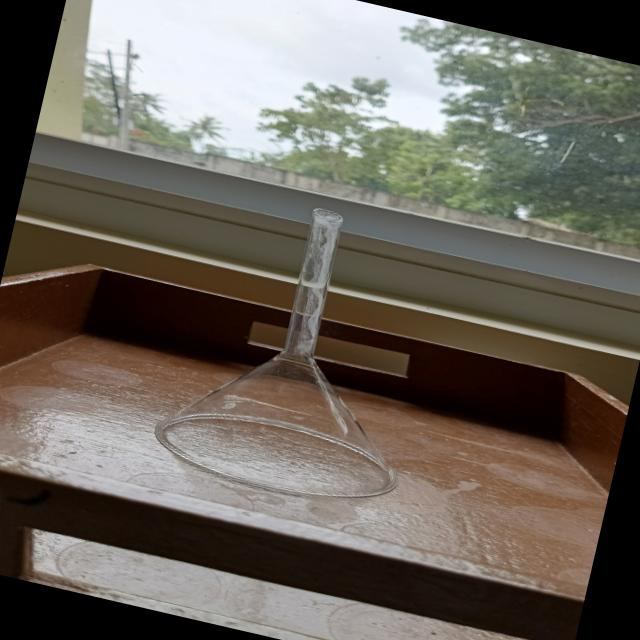funnel: (128, 174, 468, 518)
